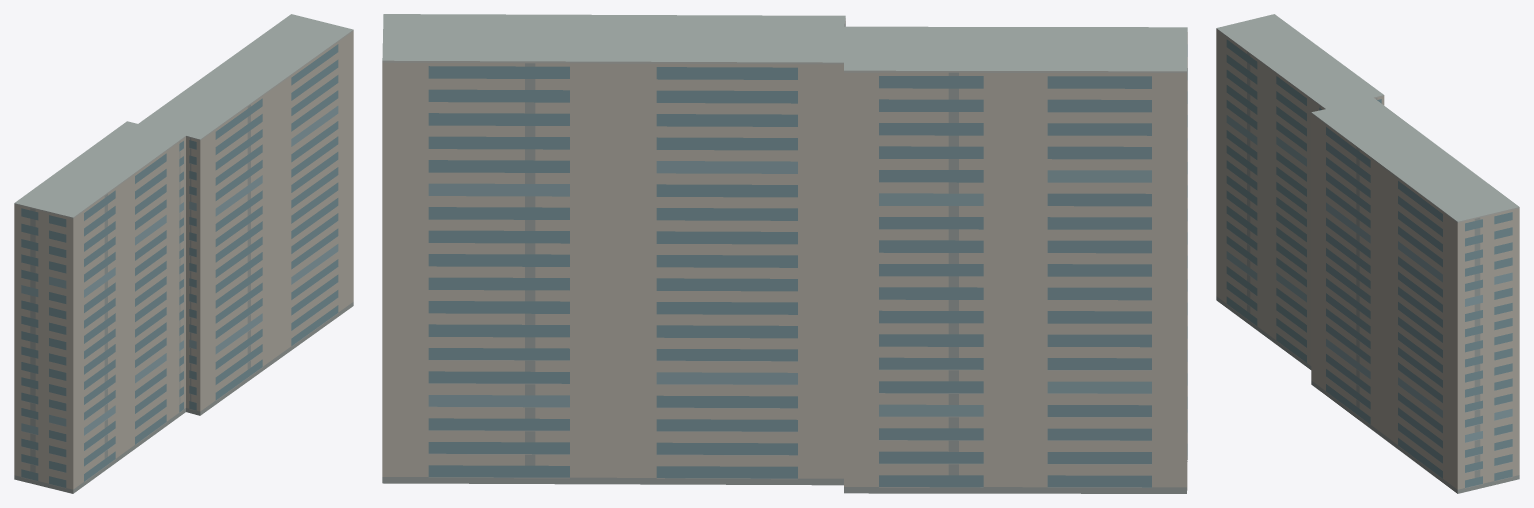
The model's file is residential-2f69e65b-c87d-4d15-ba20-0ee47916ae5f.glb.
3 renders of one model, left to right at view 1: azimuth 30°, elevation 25°; view 2: azimuth 150°, elevation 25°; view 3: azimuth 270°, elevation 25°, orthographic. The views are drawn at different scales.
Parts seen in each view (by area): view 1: residential-2f69e65b-c87d-4d15-ba20-0ee47916ae5f.tmp; view 2: residential-2f69e65b-c87d-4d15-ba20-0ee47916ae5f.tmp; view 3: residential-2f69e65b-c87d-4d15-ba20-0ee47916ae5f.tmp.
Part boxes in pixels (x1=…): residential-2f69e65b-c87d-4d15-ba20-0ee47916ae5f.tmp: x1=14, y1=14, x2=353, y2=493; residential-2f69e65b-c87d-4d15-ba20-0ee47916ae5f.tmp: x1=382, y1=14, x2=1187, y2=493; residential-2f69e65b-c87d-4d15-ba20-0ee47916ae5f.tmp: x1=1216, y1=14, x2=1519, y2=493.
Bounding box in the file's own units: 89.91 × 54.9 × 55.49.
